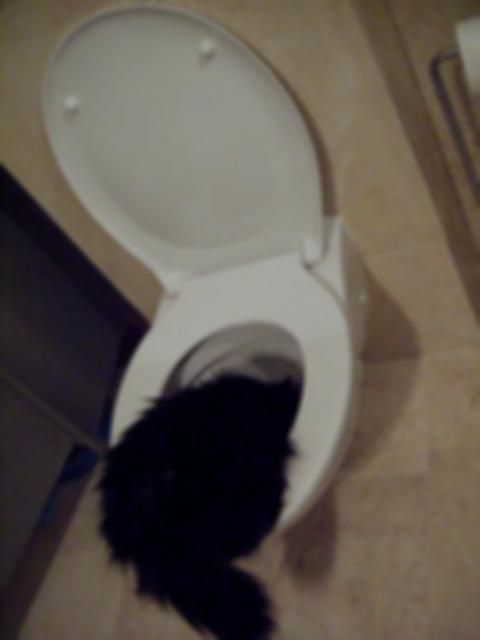Otro Obstaculo: (88, 344, 316, 638)
Sanitario: (42, 11, 378, 590)
